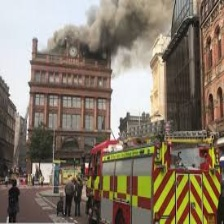smoke: (49, 1, 170, 58)
